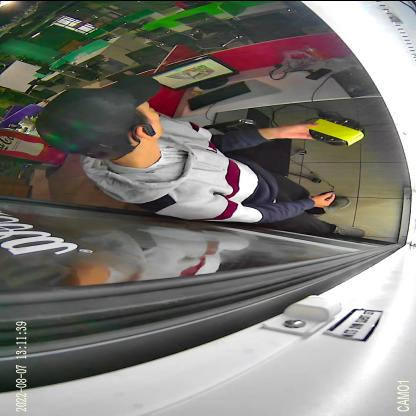yellow: (306, 116, 366, 146)
